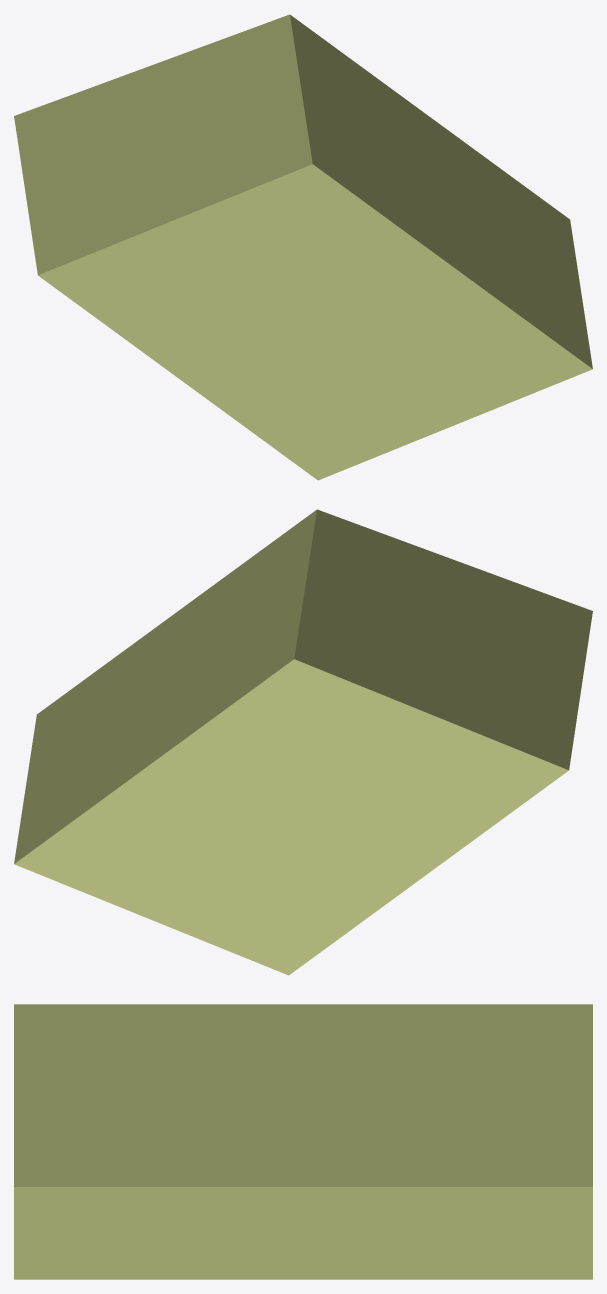
3 renders of one model, top to bottom at view 1: azimuth 30°, elevation 25°; view 2: azimuth 150°, elevation 25°; view 3: azimuth 270°, elevation 25°, orthographic. The views are drawn at different scales.
Parts seen in each view (by area): view 1: 0_1_2_3_0_0_0_3_0_3_2; view 2: 0_1_2_3_0_0_0_3_0_3_2; view 3: 0_1_2_3_0_0_0_3_0_3_2.
Boxes of the visible parts, x1,y1,x2,y2 form: 0_1_2_3_0_0_0_3_0_3_2: (14, 14, 592, 480); 0_1_2_3_0_0_0_3_0_3_2: (14, 509, 592, 975); 0_1_2_3_0_0_0_3_0_3_2: (14, 1004, 592, 1279).
Size of the model in its own units: 5.54 by 3.54 by 9.
